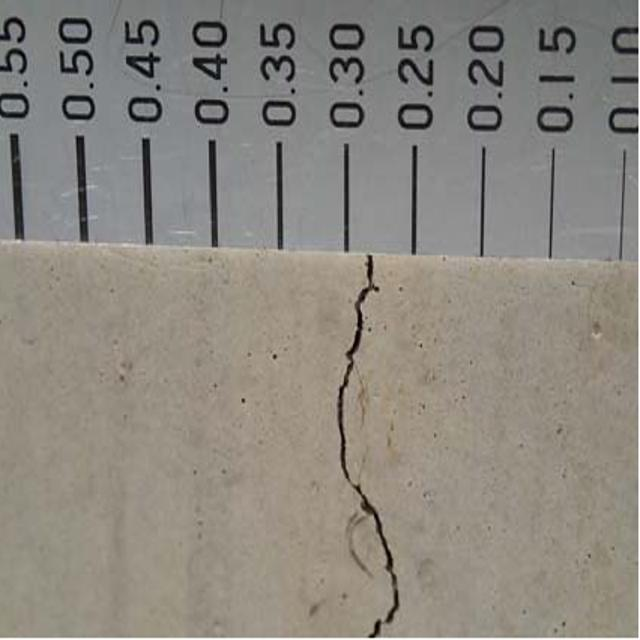crack: (322, 254, 427, 640)
